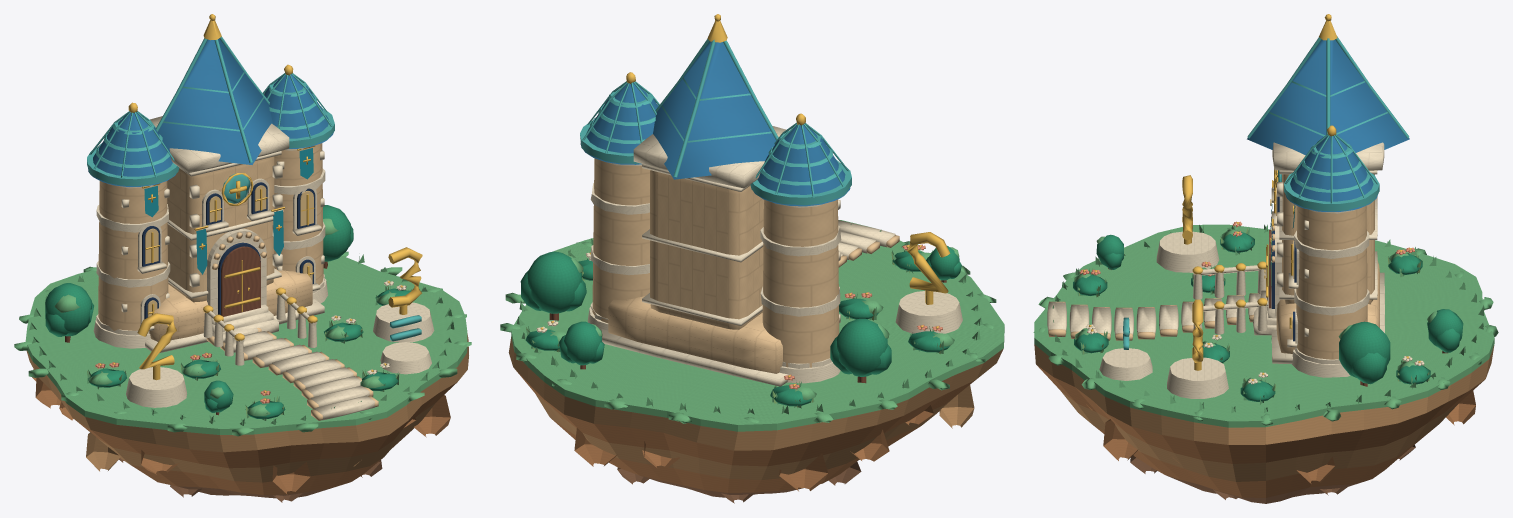
3 renders of one model, left to right at view 1: azimuth 30°, elevation 25°; view 2: azimuth 150°, elevation 25°; view 3: azimuth 270°, elevation 25°, orthographic. The views are drawn at different scales.
Visible parts, largest first — view 1: math-world_Living mint grass, math-world_Pale paving and trim, math-world_Honey limestone masonry, math-world_Glazed blue castle roofs, math-world_Sunlit sandstone strata, math-world_Warm stratified island rock, math-world_Turquoise glazed roof band, math-world_Deep jade leaves, math-world_Gold painted math sculptures, math-world_Walnut arched door, math-world_Deep window recess, math-world_Teal woven banner (+2 smaller); view 2: math-world_Honey limestone masonry, math-world_Living mint grass, math-world_Glazed blue castle roofs, math-world_Pale paving and trim, math-world_Sunlit sandstone strata, math-world_Warm stratified island rock, math-world_Deep jade leaves, math-world_Turquoise glazed roof band, math-world_Gold painted math sculptures, math-world_Deep ochre cliff strata; view 3: math-world_Living mint grass, math-world_Pale paving and trim, math-world_Sunlit sandstone strata, math-world_Honey limestone masonry, math-world_Glazed blue castle roofs, math-world_Warm stratified island rock, math-world_Deep jade leaves, math-world_Turquoise glazed roof band, math-world_Gold painted math sculptures, math-world_Deep ochre cliff strata.
Boxes of the visible parts, box(x1,y1,x2,y2) form: math-world_Living mint grass: box(14, 218, 471, 436); math-world_Pale paving and trim: box(93, 116, 434, 420); math-world_Honey limestone masonry: box(98, 143, 378, 420); math-world_Glazed blue castle roofs: box(88, 38, 333, 186); math-world_Sunlit sandstone strata: box(26, 333, 468, 482); math-world_Warm stratified island rock: box(32, 369, 457, 494); math-world_Turquoise glazed roof band: box(87, 36, 421, 341); math-world_Deep jade leaves: box(45, 205, 410, 418); math-world_Gold painted math sculptures: box(99, 14, 422, 400); math-world_Walnut arched door: box(65, 246, 327, 415); math-world_Deep window recess: box(142, 182, 315, 319); math-world_Teal woven banner: box(144, 148, 313, 274); math-world_Honey limestone masonry: box(592, 158, 899, 373); math-world_Living mint grass: box(500, 220, 1004, 431); math-world_Glazed blue castle roofs: box(580, 41, 850, 206); math-world_Pale paving and trim: box(536, 126, 962, 386); math-world_Sunlit sandstone strata: box(508, 337, 1003, 480); math-world_Warm stratified island rock: box(515, 369, 975, 492); math-world_Deep jade leaves: box(520, 246, 961, 406); math-world_Turquoise glazed roof band: box(580, 39, 851, 205); math-world_Gold painted math sculptures: box(540, 14, 950, 386); math-world_Deep ochre cliff strata: box(617, 461, 861, 503); math-world_Living mint grass: box(1033, 224, 1498, 427); math-world_Pale paving and trim: box(1047, 142, 1424, 398); math-world_Sunlit sandstone strata: box(1034, 344, 1494, 481); math-world_Honey limestone masonry: box(1048, 174, 1379, 359); math-world_Glazed blue castle roofs: box(1247, 39, 1409, 211); math-world_Warm stratified island rock: box(1037, 365, 1484, 497); math-world_Deep jade leaves: box(1073, 232, 1463, 401); math-world_Turquoise glazed roof band: box(1123, 36, 1409, 349); math-world_Gold painted math sculptures: box(1083, 14, 1420, 380); math-world_Deep ochre cliff strata: box(1130, 444, 1415, 503).
Size of the model in its own units: 4.18 by 4.51 by 4.1.
16 materials, 16 textured.
